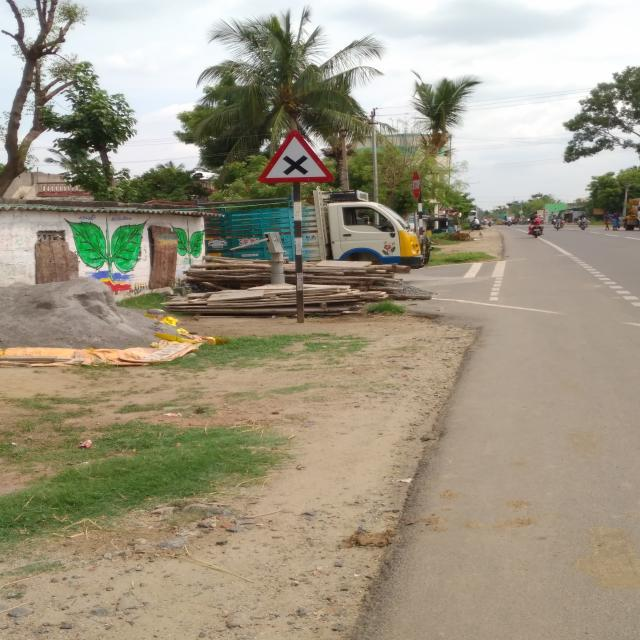cross road: (259, 131, 337, 184)
